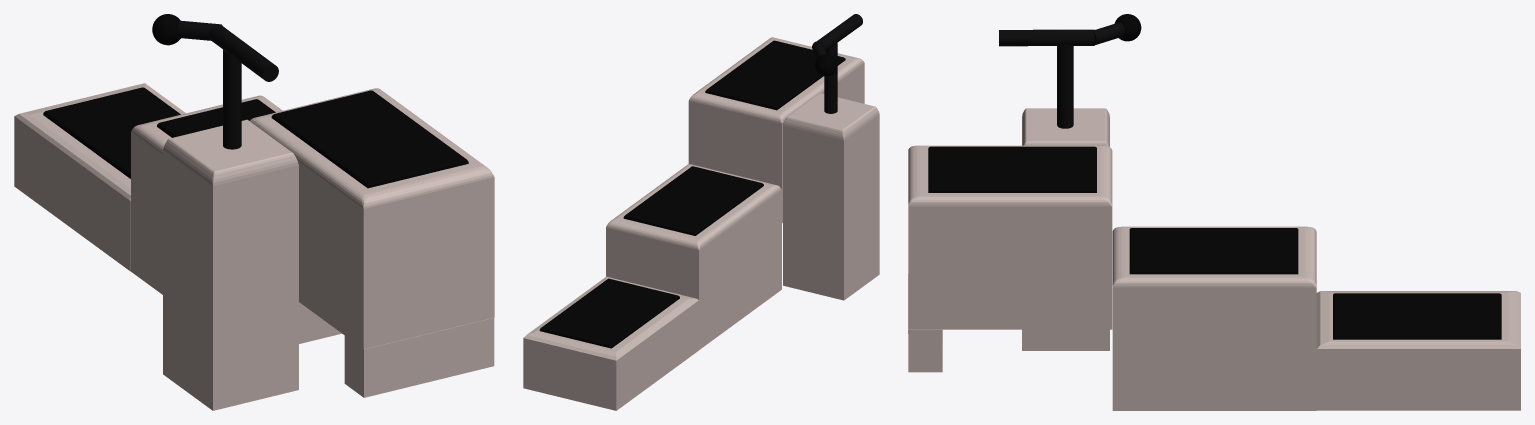
Rendered from visuel 3D PMR.glb.
The picture shows the model from 3 angles, left to right: view 1: azimuth 30°, elevation 25°; view 2: azimuth 150°, elevation 25°; view 3: azimuth 270°, elevation 25°; orthographic projection. The views are drawn at different scales.
Visible parts, largest first — view 1: Cube.004, Cube.009, Cube.002, Cube.008, Cube.003, Cube.001, Cube.007, Cylinder.001, Cube.006, Cylinder.002, Sphere.003, Cylinder.003; view 2: Cube.004, Cube.001, Cube.002, Cube.009, Cube.007, Cube.006, Cube.008, Cylinder.001, Cylinder.002, Sphere.003; view 3: Cube.009, Cube.001, Cube.002, Cube.006, Cube.007, Cube.008, Cube.004, Cylinder.002, Cube.003, Cylinder.001.
Boxes of the visible parts, <box> form: Cube.004: <box>163,119,298,410</box>; Cube.009: <box>250,88,494,349</box>; Cube.002: <box>14,83,185,271</box>; Cube.008: <box>271,90,468,188</box>; Cube.003: <box>344,317,494,397</box>; Cube.001: <box>131,95,341,343</box>; Cube.007: <box>43,87,180,178</box>; Cylinder.001: <box>223,49,241,149</box>; Cube.006: <box>157,99,275,137</box>; Cylinder.002: <box>209,24,278,81</box>; Sphere.003: <box>152,14,180,45</box>; Cylinder.003: <box>178,20,222,40</box>; Cube.004: <box>783,93,879,300</box>; Cube.001: <box>606,164,781,349</box>; Cube.002: <box>523,276,699,410</box>; Cube.009: <box>688,37,864,223</box>; Cube.007: <box>539,278,679,348</box>; Cube.006: <box>623,166,763,235</box>; Cube.008: <box>705,40,845,110</box>; Cylinder.001: <box>824,42,837,113</box>; Cylinder.002: <box>817,14,862,50</box>; Sphere.003: <box>815,54,837,76</box>; Cube.009: <box>908,145,1112,329</box>; Cube.001: <box>1112,226,1316,410</box>; Cube.002: <box>1316,291,1520,410</box>; Cube.006: <box>1129,228,1298,274</box>; Cube.007: <box>1333,293,1501,339</box>; Cube.008: <box>928,146,1096,192</box>; Cube.004: <box>1022,108,1109,350</box>; Cylinder.002: <box>999,29,1094,46</box>; Cube.003: <box>908,274,942,372</box>; Cylinder.001: <box>1057,44,1073,128</box>.
Size of the model in its own units: 3.72 by 5.78 by 10.37.
